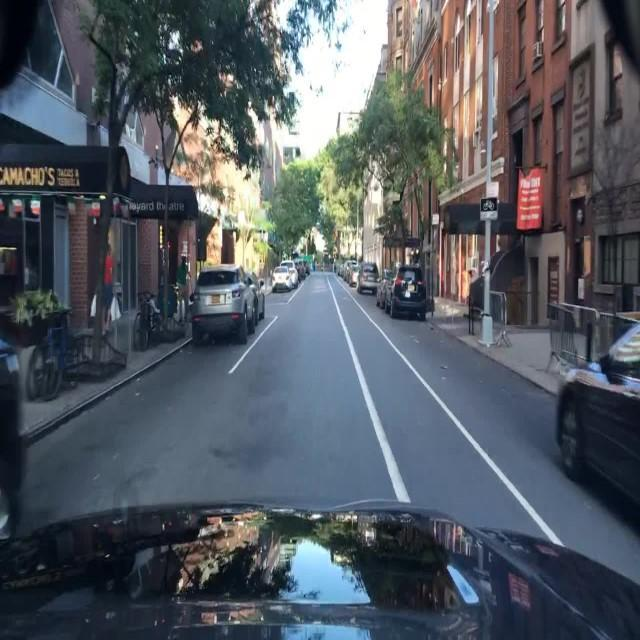normal: (318, 236, 445, 336), (175, 242, 285, 350)
